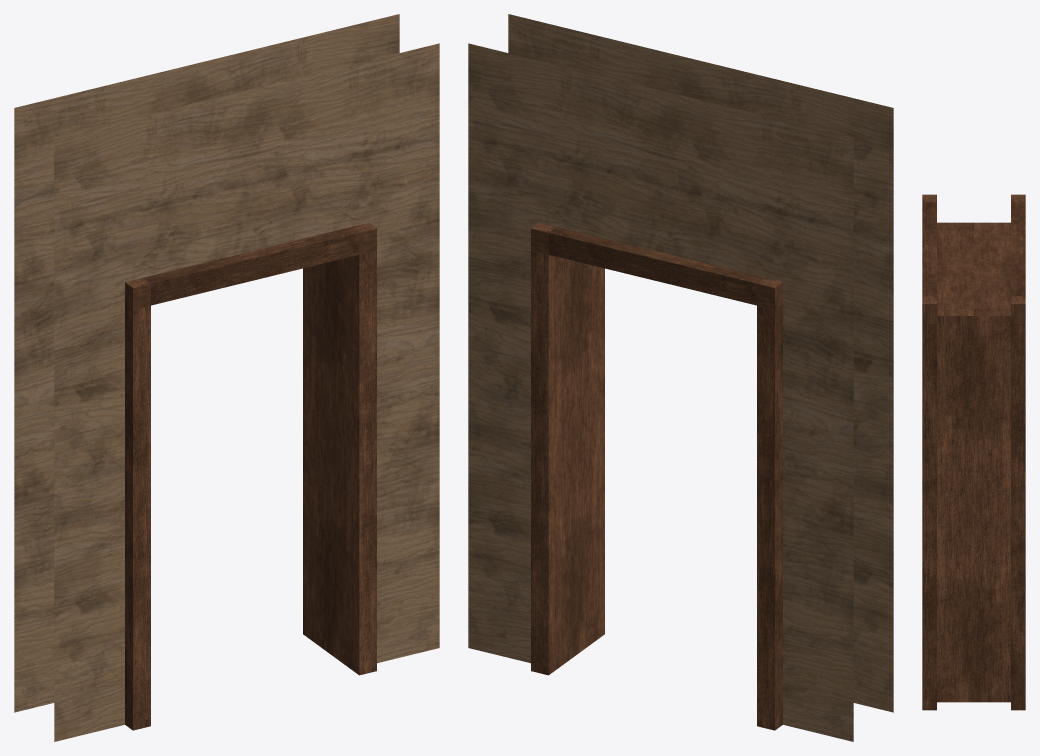
File: cabinWallDoorFrame.fbx
3 renders of one model, left to right at view 1: azimuth 30°, elevation 25°; view 2: azimuth 150°, elevation 25°; view 3: azimuth 270°, elevation 25°, orthographic. The views are drawn at different scales.
Parts seen in each view (by area): view 1: cabinWallDoorFrame; view 2: cabinWallDoorFrame; view 3: cabinWallDoorFrame.
Part boxes in pixels (x1,y1,x2,y2): cabinWallDoorFrame: [14, 14, 439, 741]; cabinWallDoorFrame: [468, 14, 893, 741]; cabinWallDoorFrame: [922, 194, 1025, 710].
Bounding box in the file's own units: 200 × 300 × 50.52.
